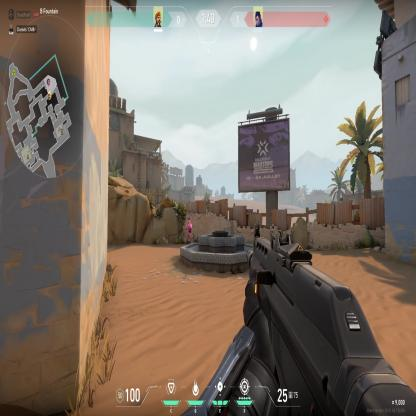enemy: (185, 217, 193, 245)
